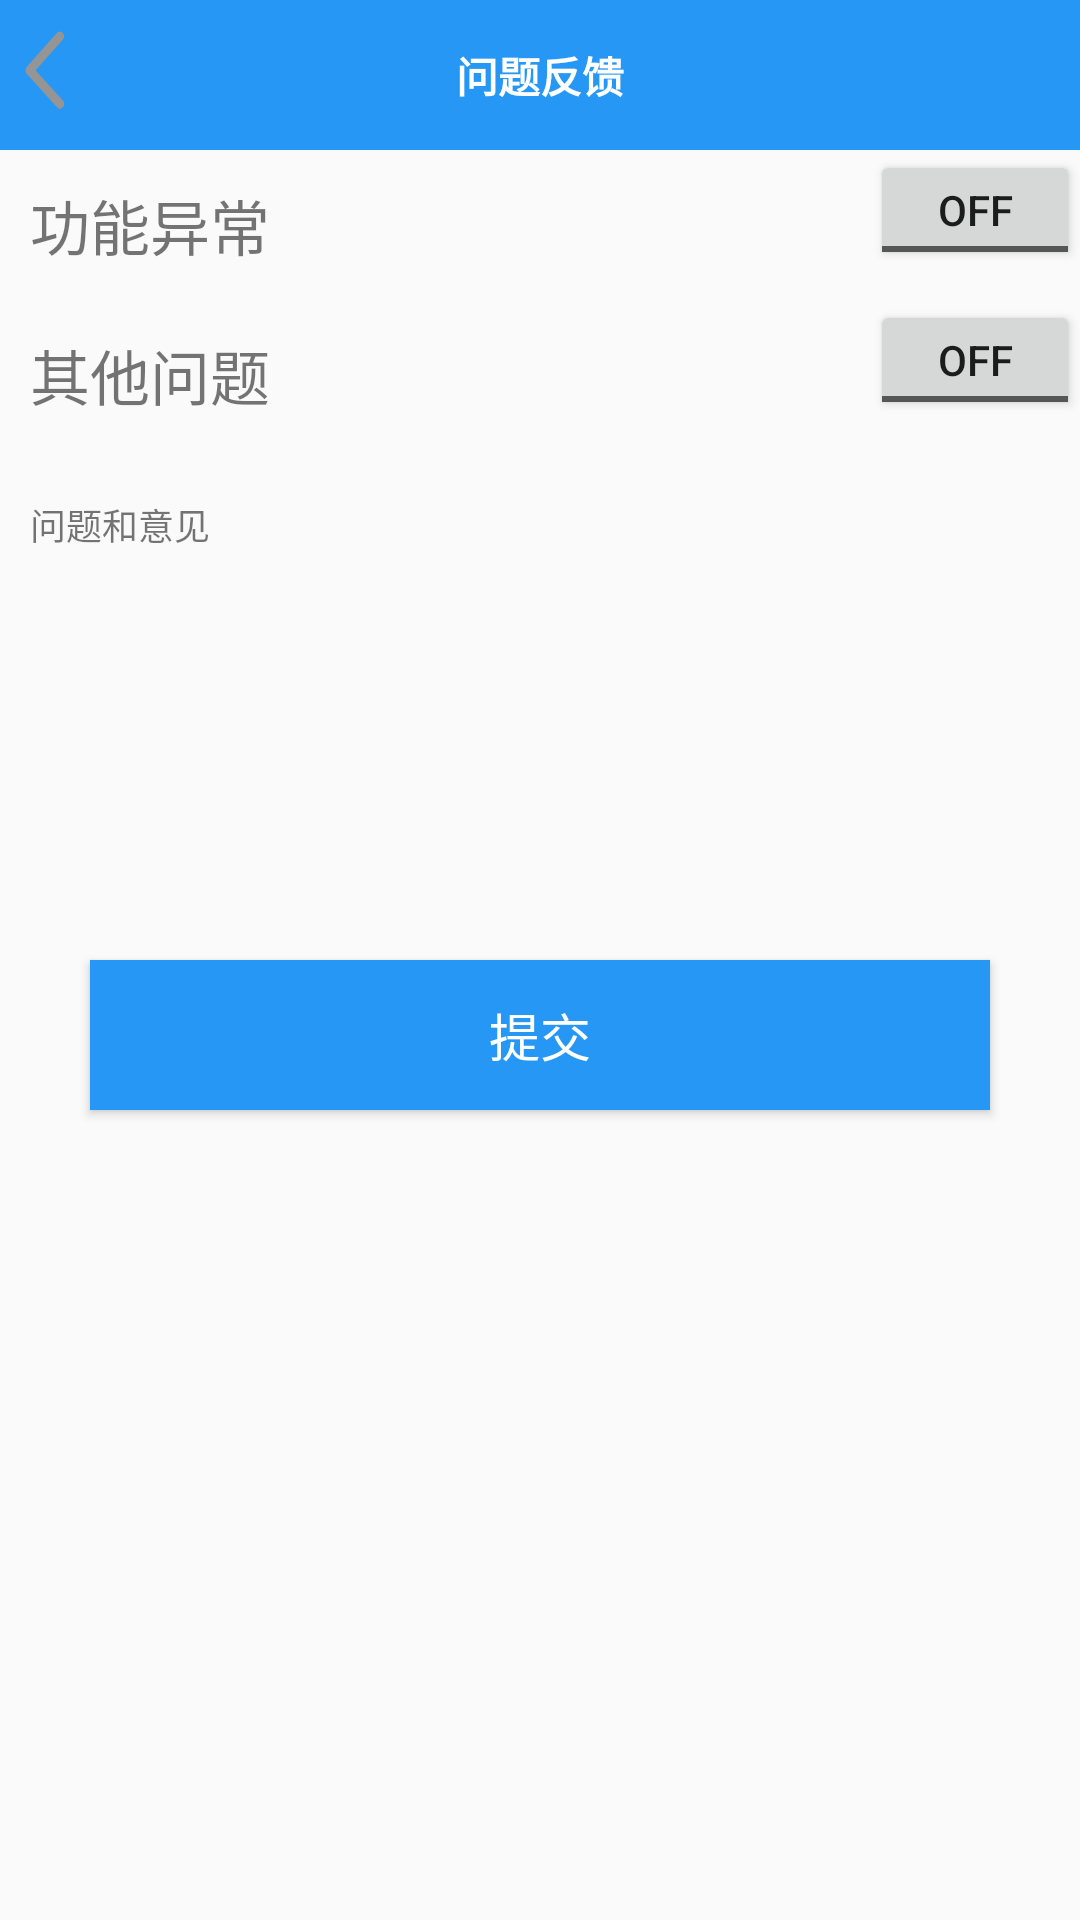

Icon bounding boxes for this 1080 x 1920 phone screenshot, format [x1,y1,x2,y2]:
zuojiantou: [25,31,64,109]
